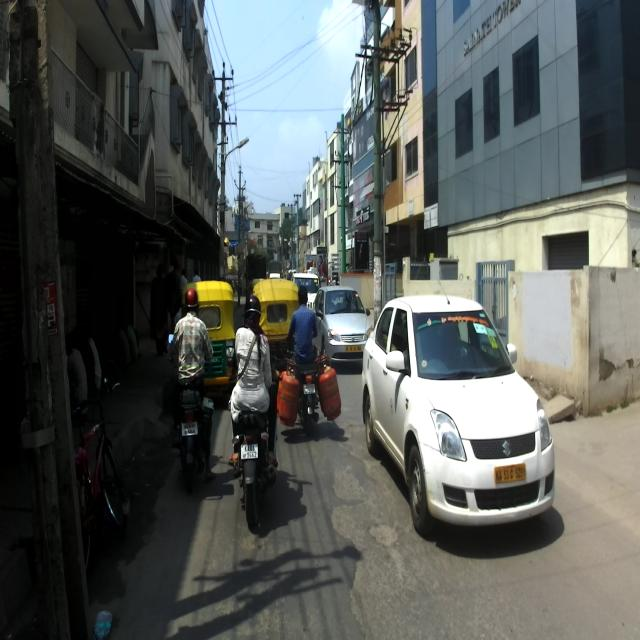car ahead at: (362, 297, 560, 540)
electric pole ahead at: (2, 6, 100, 635)
motorcycle ahead at: (232, 405, 278, 531), (172, 380, 214, 493)
